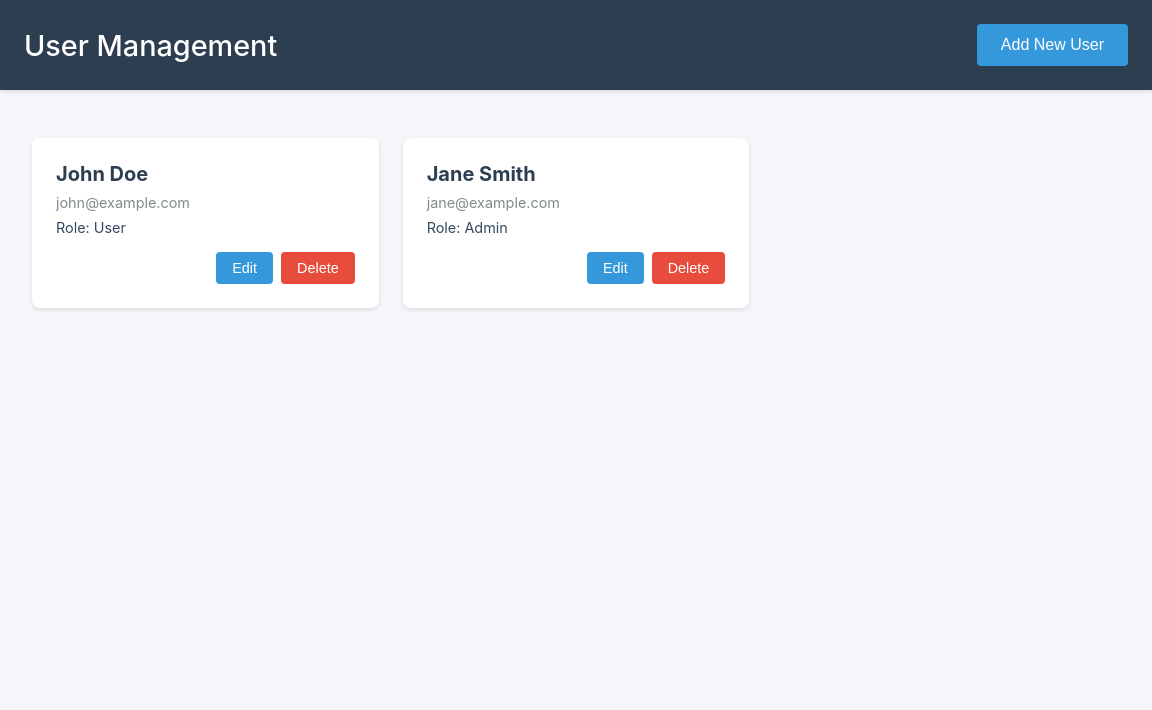
it: App › User Creation › opens create form when Add New User is clicked
Note: Click add user button
Click the button with test id "add-user-button".
click(1052, 45)  # box [977,24,1128,66]
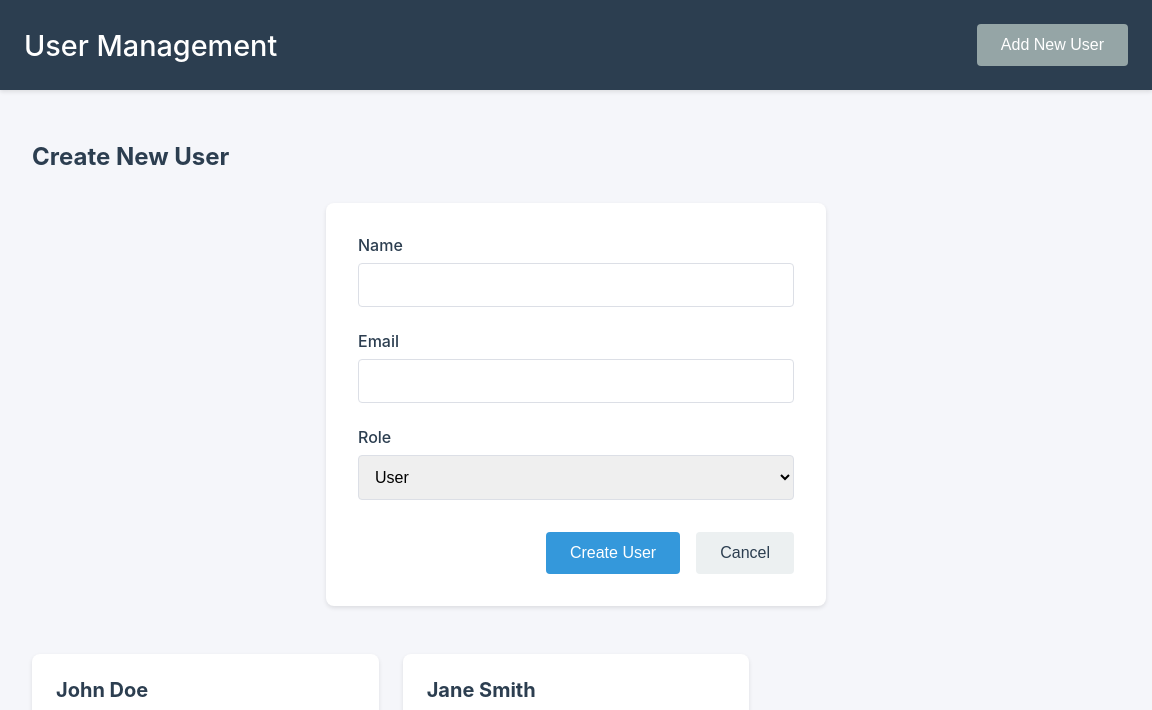
Check: the heading "Create New User" is shown, box [32,142,229,171]
Check: the form with test id "user-form" is shown, box [326,203,826,606]
